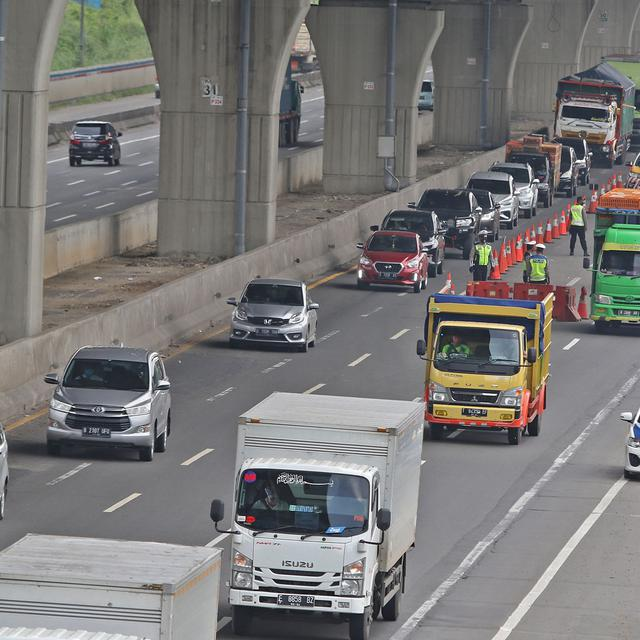car: (225, 390, 421, 631), (426, 292, 558, 439), (50, 346, 170, 462), (553, 64, 635, 169), (590, 190, 640, 338), (231, 276, 318, 353), (413, 189, 480, 263), (380, 209, 446, 279), (356, 230, 428, 294), (505, 139, 560, 208), (465, 171, 519, 232), (488, 162, 539, 221), (457, 187, 500, 244), (70, 120, 122, 167), (552, 136, 591, 190), (538, 145, 577, 198)
